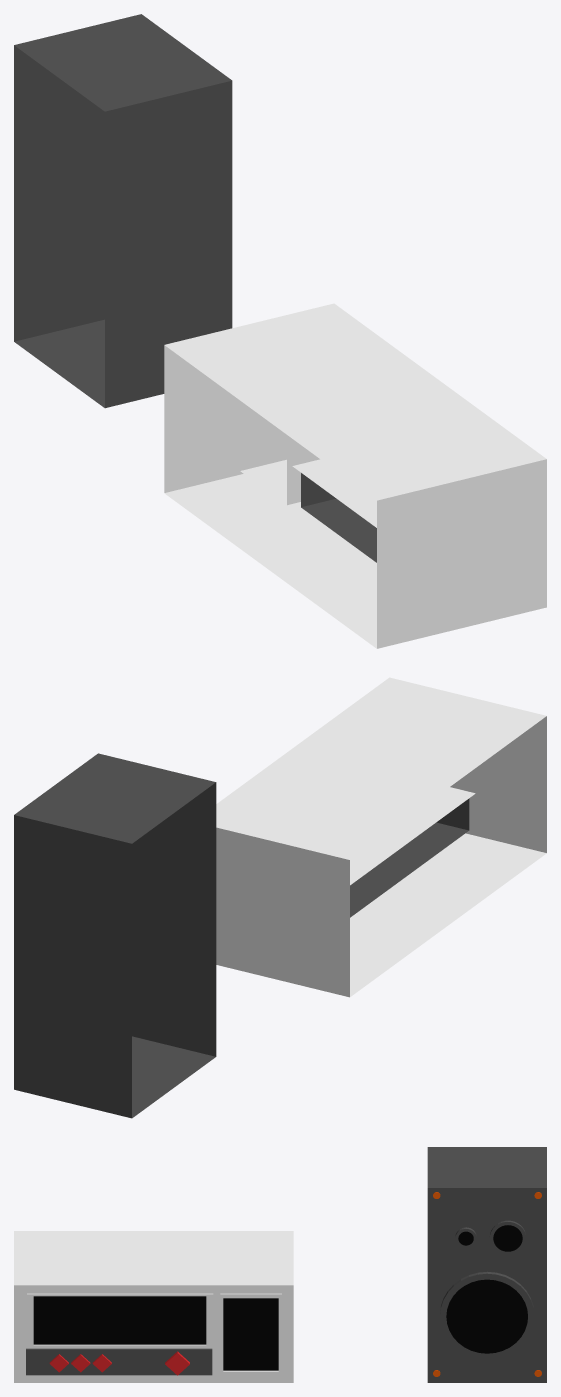
File: MasterEquipaments.fbx
3 views of the same model, one above another, from view 1: azimuth 30°, elevation 25°; view 2: azimuth 150°, elevation 25°; view 3: azimuth 270°, elevation 25° (orthographic). The views are drawn at different scales.
Visible parts, largest first — view 1: Equalizer, Speaker, KnobContainer, Led02; view 2: Equalizer, Speaker, KnobContainer, Led02; view 3: Speaker, Equalizer, Led02, Led01, KnobContainer, Cylinder.001, Cylinder, BigKnob.
Part boxes in pixels (x1,y1,x2,y2): Equalizer: (164, 303, 546, 648); Speaker: (14, 14, 232, 408); KnobContainer: (301, 473, 376, 562); Led02: (292, 439, 376, 527); Equalizer: (216, 677, 546, 997); Speaker: (14, 753, 216, 1118); KnobContainer: (350, 798, 469, 917); Led02: (350, 768, 475, 885); Speaker: (427, 1147, 546, 1382); Equalizer: (14, 1231, 293, 1382); Led02: (27, 1293, 213, 1347); Led01: (220, 1293, 281, 1375); KnobContainer: (26, 1348, 212, 1375); Cylinder.001: (489, 1220, 526, 1254); Cylinder: (455, 1227, 476, 1248); BigKnob: (165, 1351, 189, 1375).
Size of the model in its own units: 126 by 200 by 496.
